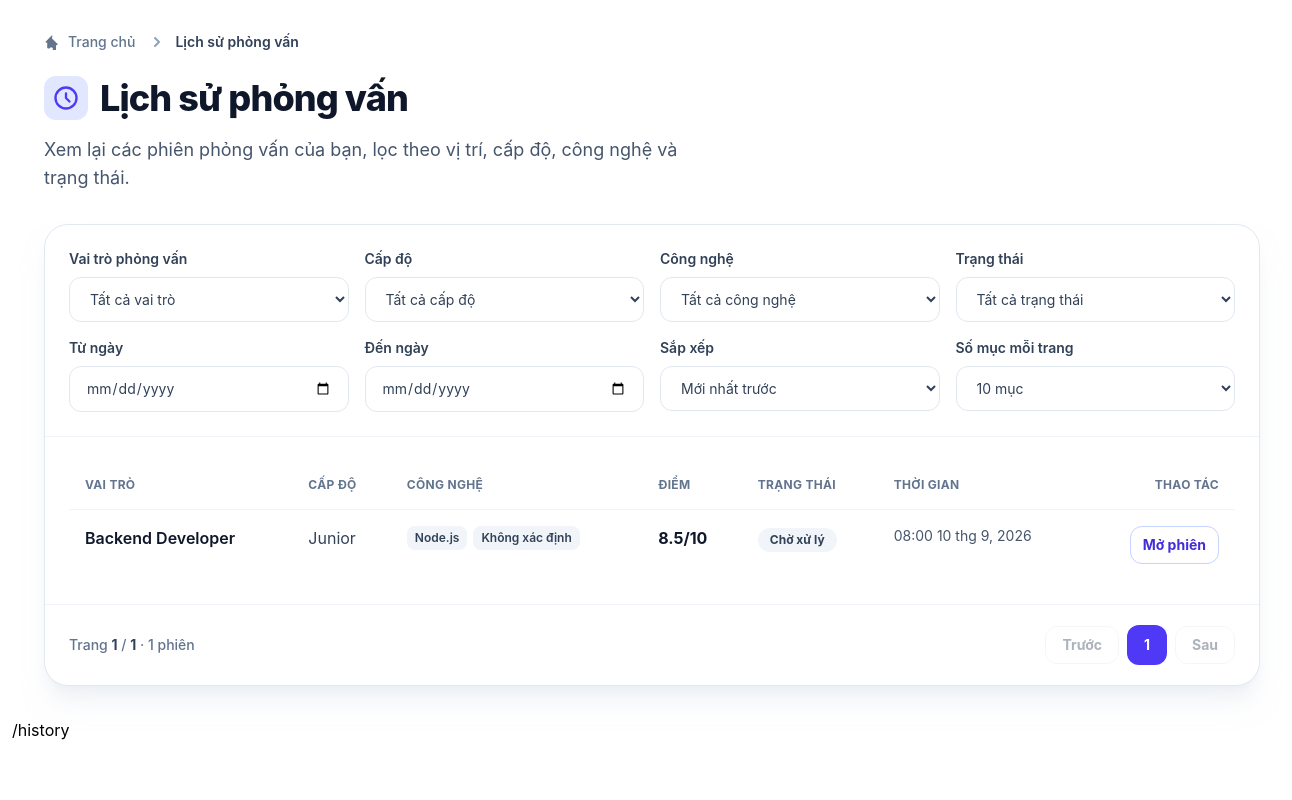
Test case: HistoryPage › navigates PENDING to its interview session using item.sessionId
Expected: the cell "Chờ xử lý" is shown, 742,510 -> 878,580
Click the button "Mở phiên" at (1174, 545), box 1130,526 -> 1219,564
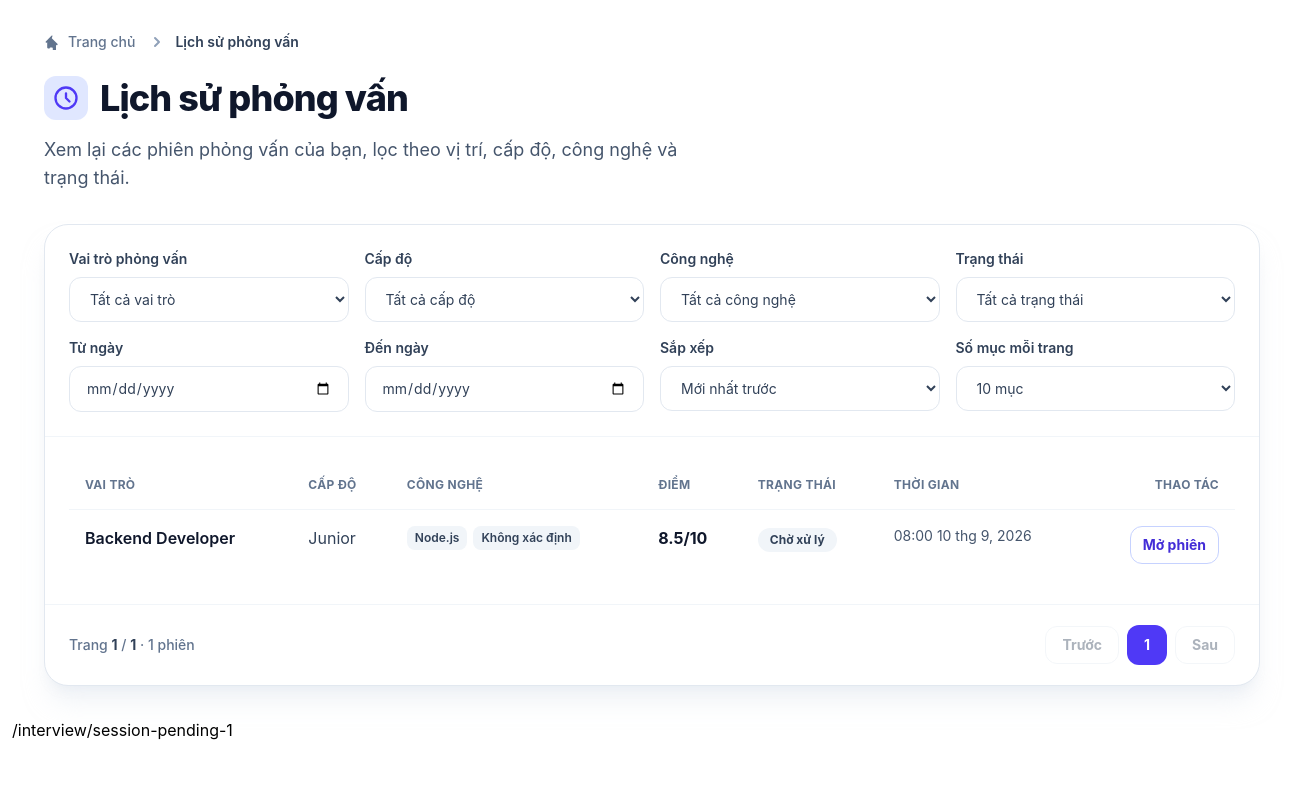
Expected: the text with test id "location" reads "/interview/session-pending-1", 12,720 -> 233,740
